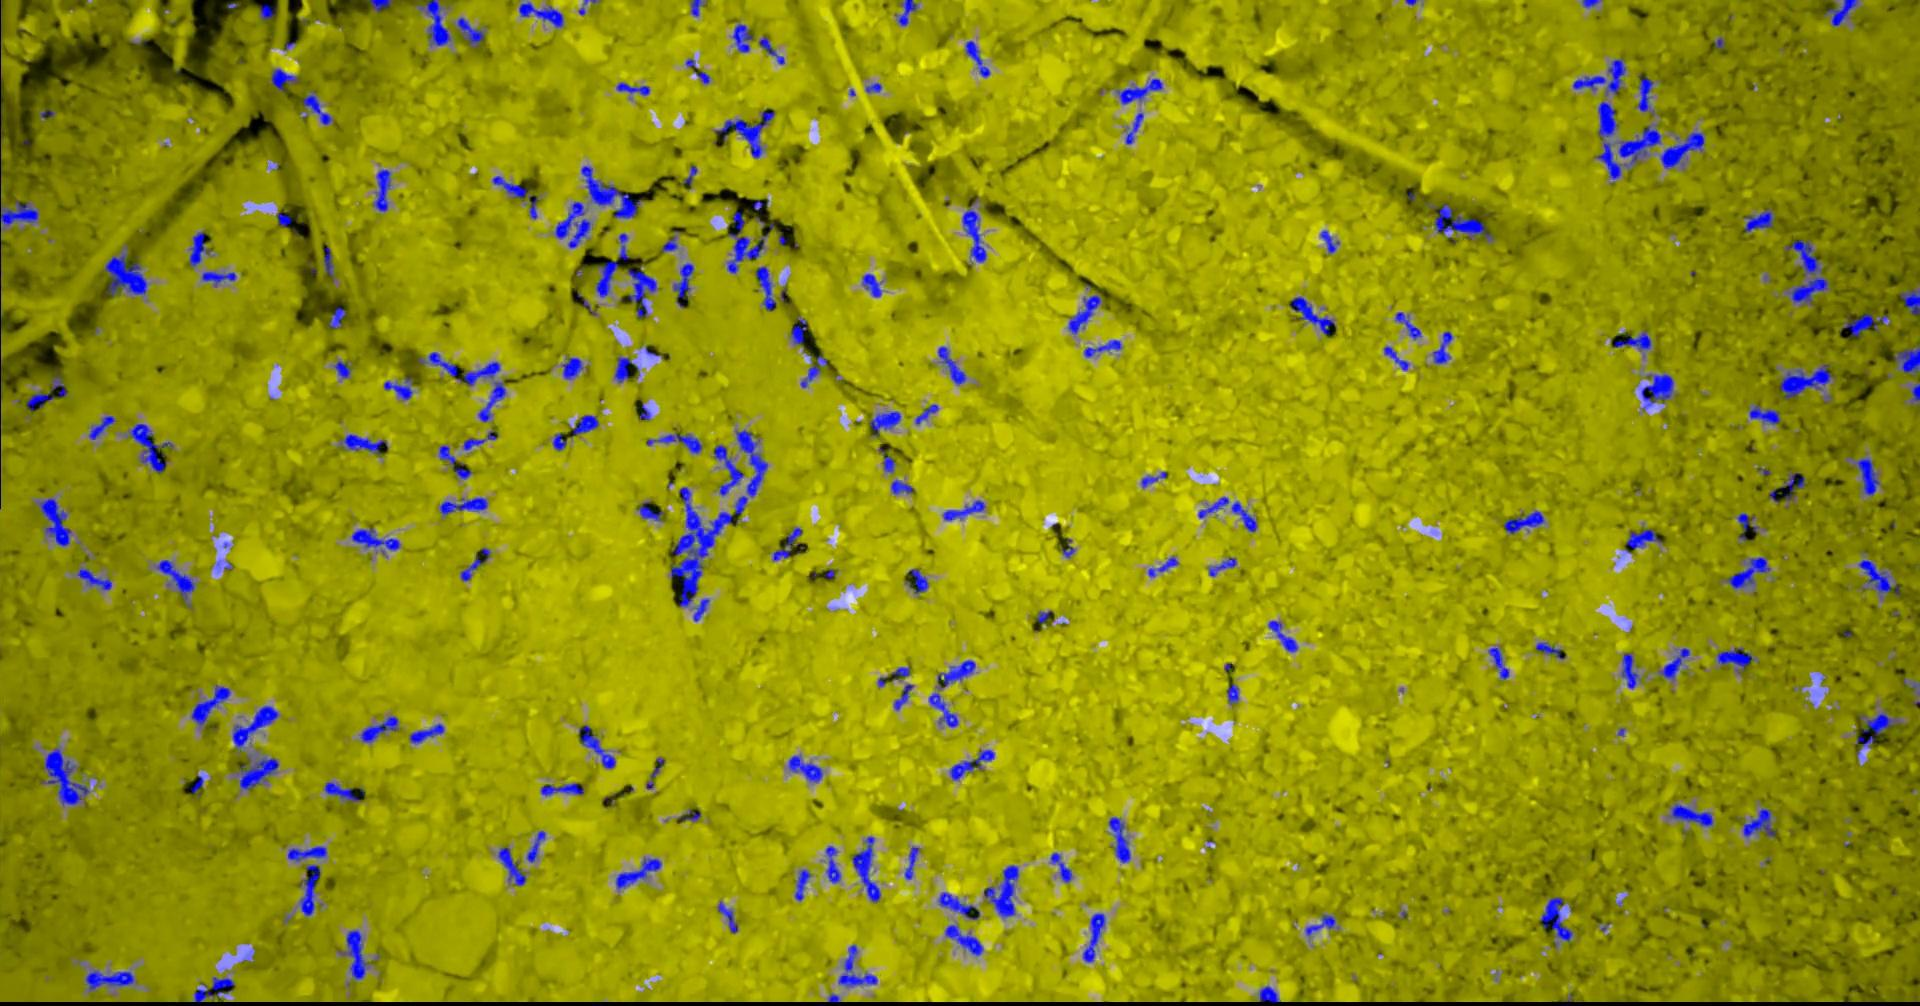ant: (580, 165, 640, 218), (714, 111, 775, 158), (734, 429, 767, 514), (1785, 239, 1829, 304), (726, 211, 768, 273), (428, 351, 499, 385), (1431, 203, 1493, 239), (130, 423, 171, 473), (232, 705, 278, 749), (491, 175, 537, 218), (851, 836, 880, 902), (103, 253, 147, 296), (1572, 58, 1625, 94), (1779, 363, 1832, 399), (983, 865, 1018, 916), (1289, 296, 1335, 334), (554, 201, 590, 246), (190, 683, 230, 725), (838, 944, 877, 986), (156, 559, 194, 601), (578, 725, 615, 768), (1660, 132, 1704, 168), (712, 445, 743, 495), (39, 498, 70, 546), (1540, 895, 1572, 941), (627, 268, 657, 318), (339, 930, 368, 979), (1858, 559, 1898, 594), (615, 857, 662, 888), (1857, 713, 1900, 746), (961, 203, 985, 262), (1067, 291, 1100, 333), (419, 0, 450, 44), (239, 754, 278, 789), (949, 749, 994, 779), (1727, 556, 1769, 588), (1116, 77, 1162, 104), (943, 923, 982, 955), (518, 0, 563, 27), (1641, 373, 1672, 410), (297, 864, 320, 915), (497, 846, 526, 885), (938, 892, 979, 920), (438, 445, 471, 479), (937, 345, 966, 384), (937, 659, 975, 688), (646, 433, 701, 453), (350, 527, 399, 550), (1082, 913, 1105, 962), (477, 381, 505, 420), (193, 976, 234, 1002), (1843, 312, 1887, 337), (460, 547, 490, 580), (1658, 647, 1689, 680), (1669, 803, 1712, 826), (1109, 817, 1130, 862), (1716, 647, 1752, 673), (85, 969, 133, 989), (772, 527, 801, 560), (928, 694, 957, 727), (1743, 808, 1777, 837), (361, 716, 397, 742), (302, 94, 333, 124), (1503, 511, 1544, 533), (965, 39, 989, 77), (0, 199, 38, 224), (673, 263, 693, 307), (340, 434, 387, 453), (1624, 528, 1661, 553), (1269, 620, 1297, 652), (800, 354, 827, 387), (789, 754, 822, 781), (1857, 457, 1879, 495), (439, 497, 488, 514), (756, 265, 775, 310), (188, 230, 211, 267), (1823, 0, 1857, 25), (456, 17, 483, 47), (596, 260, 618, 296), (942, 500, 984, 520), (1230, 500, 1256, 531), (324, 781, 361, 801), (1893, 345, 1919, 375), (869, 412, 900, 434), (409, 723, 444, 743), (77, 568, 110, 589), (758, 36, 783, 64), (1779, 473, 1804, 500), (1197, 495, 1228, 518), (373, 169, 390, 211), (1396, 312, 1421, 339), (1083, 339, 1121, 357), (1488, 647, 1509, 680), (1743, 208, 1773, 231), (1636, 74, 1653, 111), (1613, 332, 1650, 349), (615, 356, 639, 382), (88, 415, 114, 439), (270, 69, 298, 91), (383, 376, 411, 399), (731, 23, 753, 52), (1305, 915, 1335, 936), (526, 829, 545, 862), (1383, 345, 1408, 370), (1622, 652, 1638, 688), (1432, 332, 1451, 363), (717, 902, 737, 934), (1736, 512, 1757, 540), (540, 782, 583, 796), (287, 846, 326, 861), (1050, 852, 1070, 882), (463, 431, 497, 448), (684, 58, 709, 83), (894, 0, 917, 25), (1749, 405, 1779, 424), (1147, 556, 1177, 575), (905, 568, 928, 593), (645, 757, 664, 788), (570, 414, 598, 434), (1125, 112, 1143, 144), (825, 845, 841, 882), (893, 683, 913, 710), (25, 391, 53, 410), (794, 869, 810, 901), (1898, 288, 1919, 314), (904, 846, 919, 879), (201, 271, 236, 285), (1208, 558, 1236, 575), (637, 500, 663, 520), (790, 315, 806, 344), (1535, 641, 1564, 658), (877, 446, 894, 473), (561, 357, 582, 379), (916, 404, 937, 424), (862, 273, 881, 296), (616, 83, 649, 95), (1321, 230, 1338, 253), (328, 306, 345, 328), (1257, 986, 1280, 1002), (1142, 471, 1166, 486), (51, 373, 66, 396), (890, 479, 913, 494), (693, 598, 709, 621), (363, 0, 391, 11), (323, 246, 333, 277), (334, 359, 350, 377), (618, 232, 629, 260), (190, 775, 203, 796), (677, 809, 700, 821), (683, 165, 696, 185), (1225, 683, 1238, 704), (259, 4, 276, 19), (552, 432, 566, 450), (891, 666, 909, 680), (1062, 539, 1074, 558), (662, 236, 677, 251), (690, 0, 703, 17), (276, 212, 291, 226), (637, 403, 650, 419), (1036, 610, 1049, 622), (865, 83, 881, 91), (1581, 0, 1599, 8), (1911, 384, 1919, 401)
